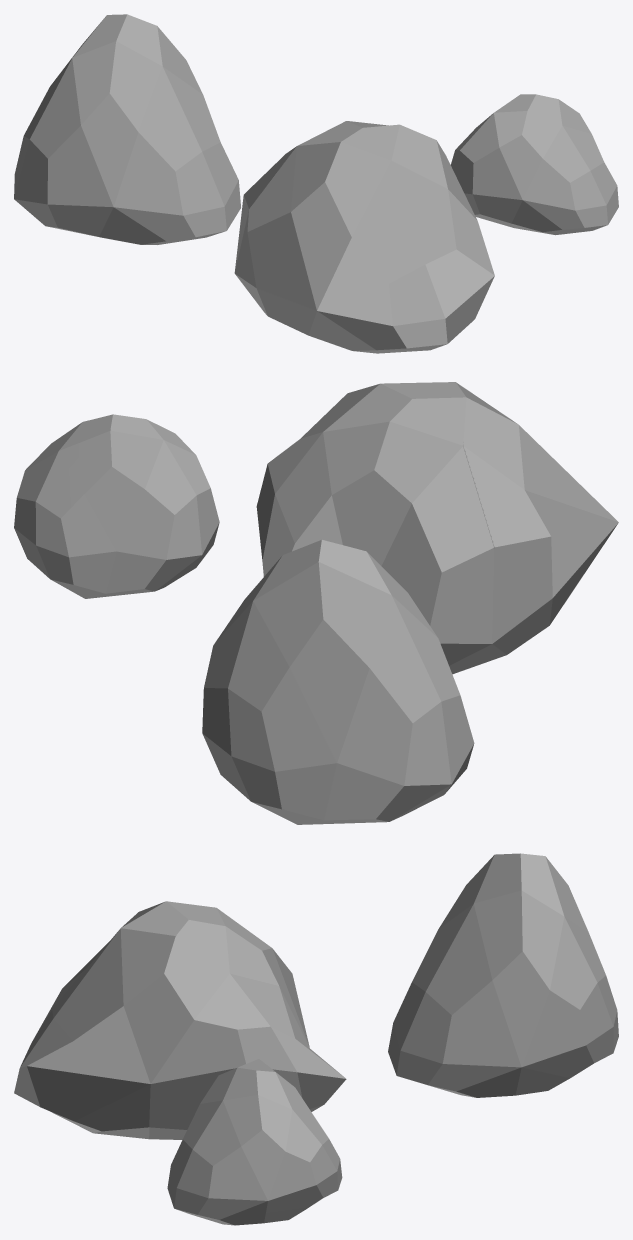
Rendered from M_Stone_01.fbx.
3 views of the same model, one above another, from view 1: azimuth 30°, elevation 25°; view 2: azimuth 150°, elevation 25°; view 3: azimuth 270°, elevation 25° (orthographic). The views are drawn at different scales.
Parts seen in each view (by area): view 1: Stone_01; view 2: Stone_01; view 3: Stone_01.
Part boxes in pixels (bbox=[...]): Stone_01: bbox=[14, 14, 618, 353]; Stone_01: bbox=[14, 382, 618, 824]; Stone_01: bbox=[14, 853, 618, 1225].
Bounding box in the file's own units: 391 × 173 × 406.
